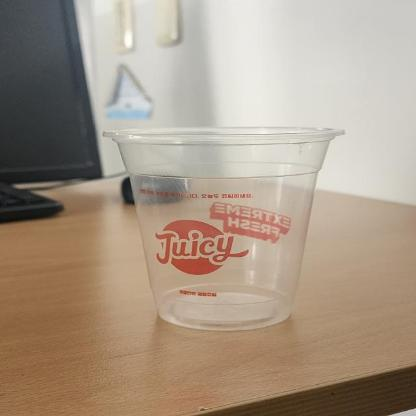Plastic Cup: (99, 127, 347, 331)
